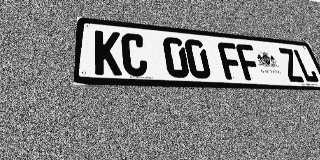0: (162, 36, 190, 78), (184, 39, 212, 79)
C: (121, 33, 148, 77)
F: (217, 42, 245, 80), (235, 44, 263, 81)
K: (94, 30, 122, 76)
L: (292, 49, 320, 83)
Z: (277, 48, 305, 82)
